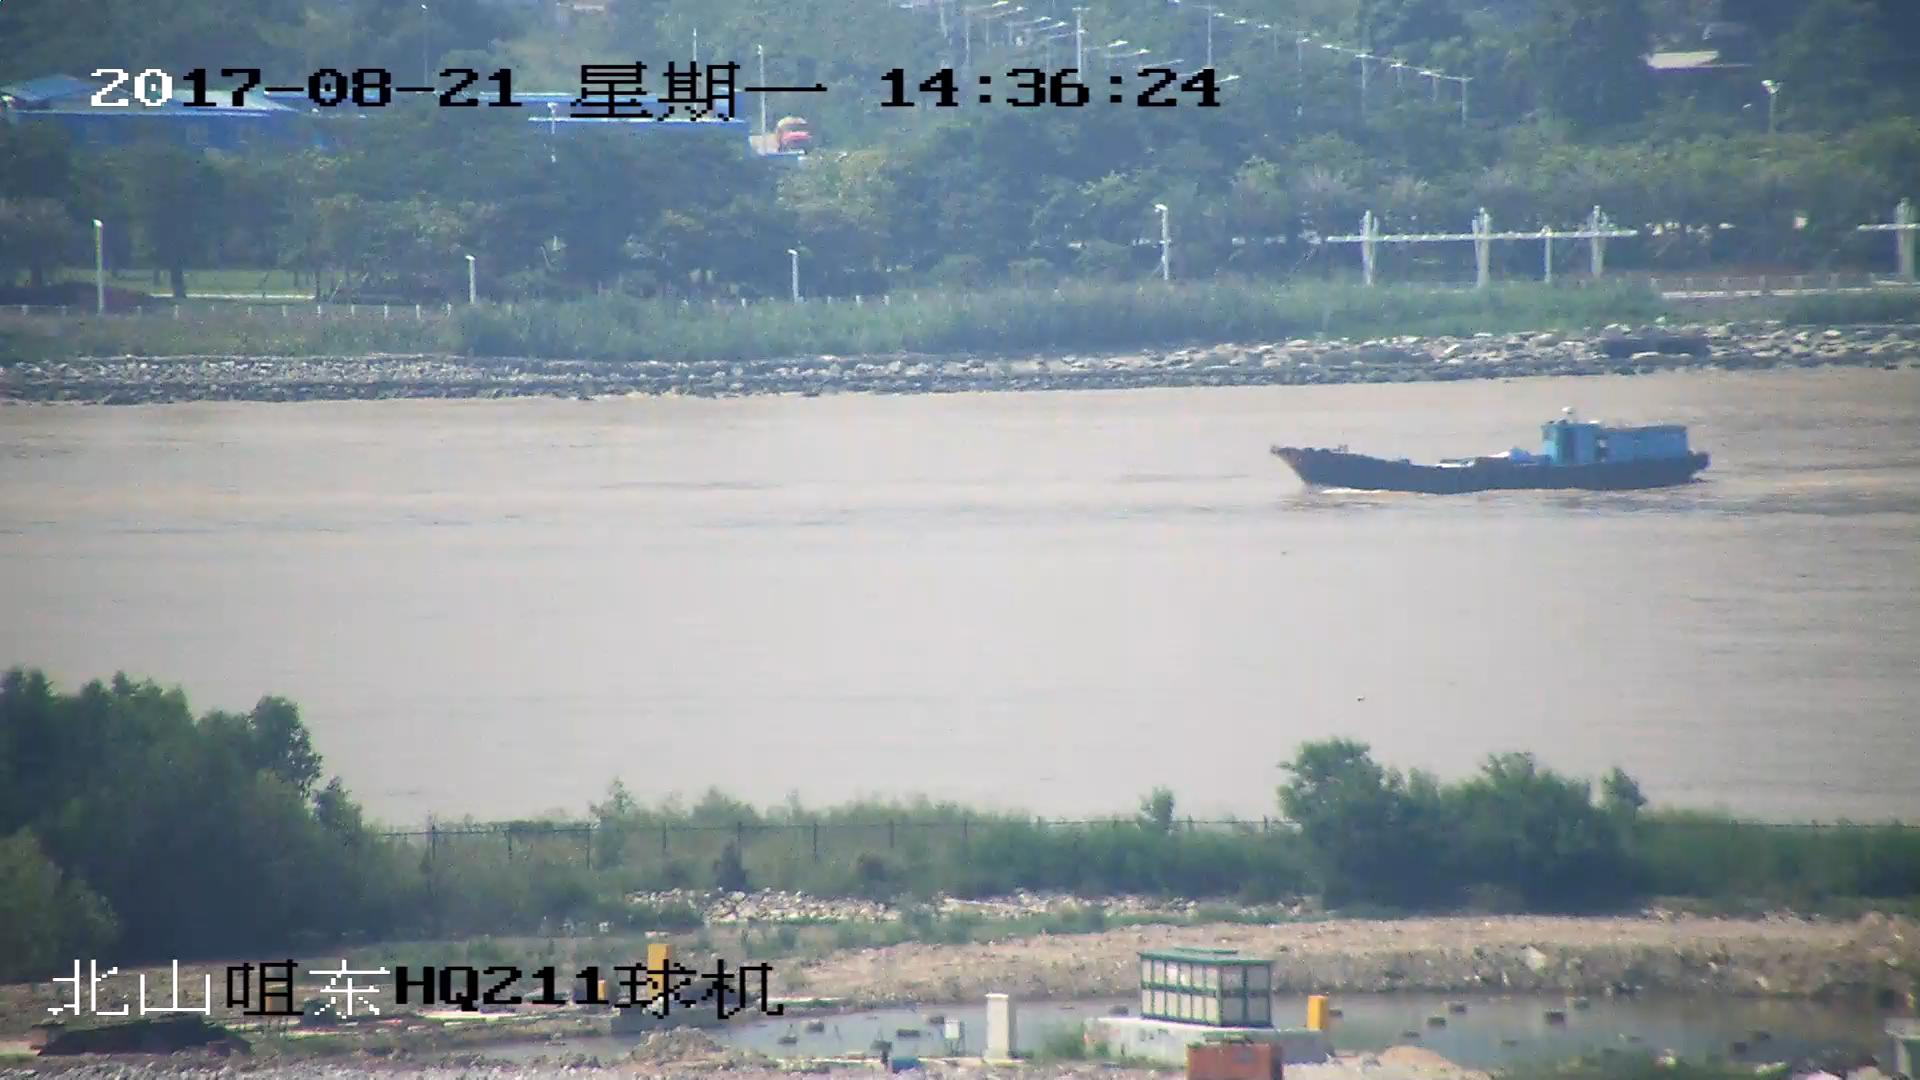fishing boat: (1278, 412, 1711, 493)
